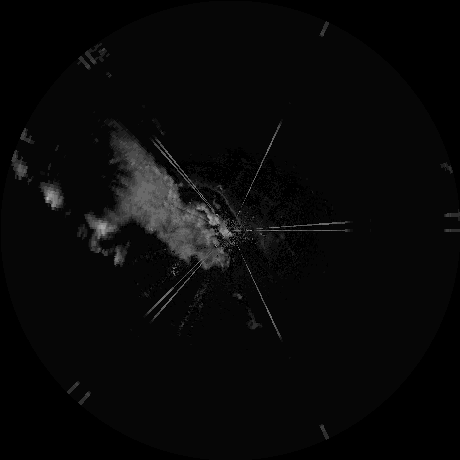frontgust: (176, 179, 242, 226)
